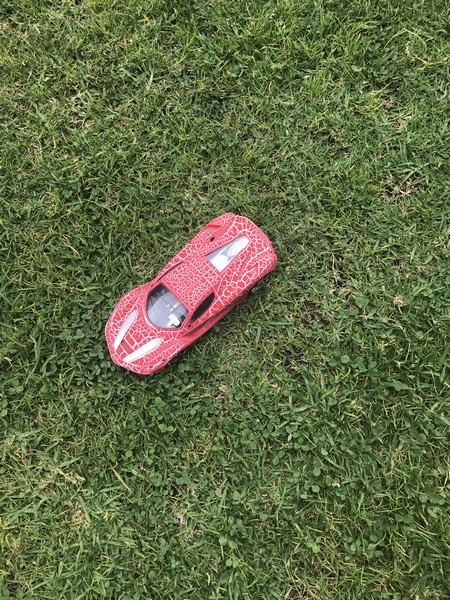RC: (104, 210, 279, 381)
